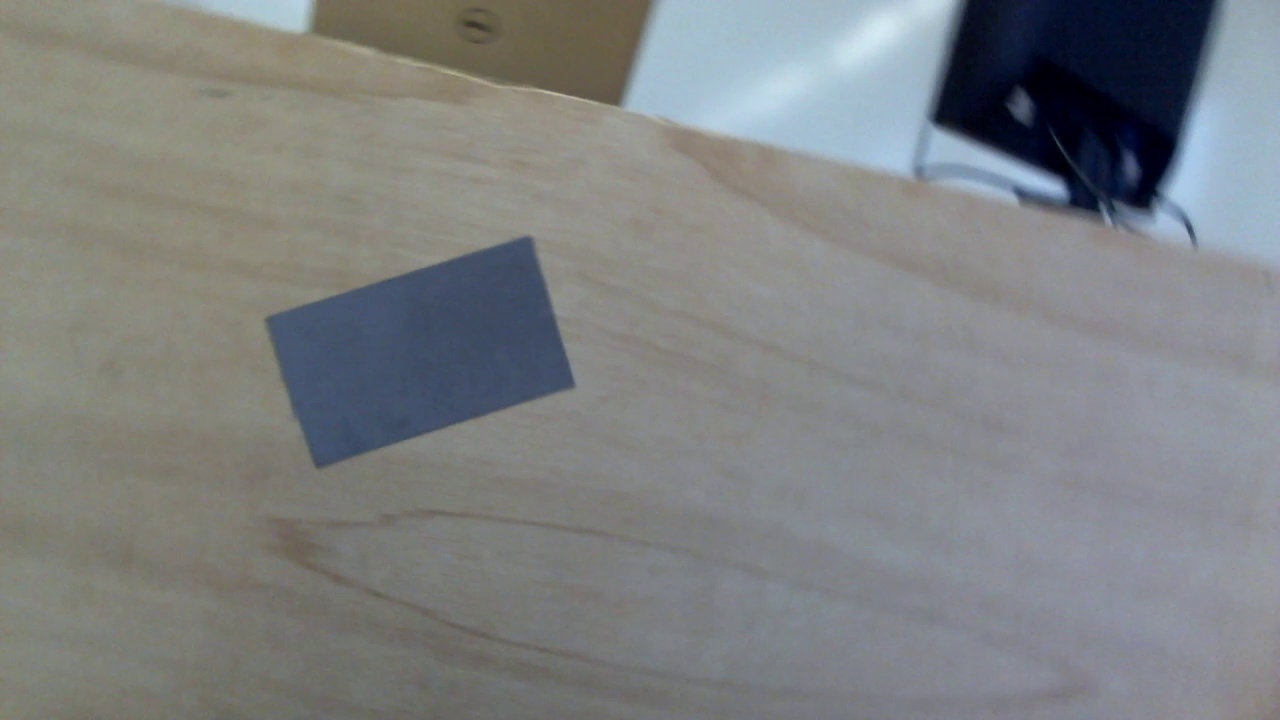Tape: (266, 234, 578, 466)
